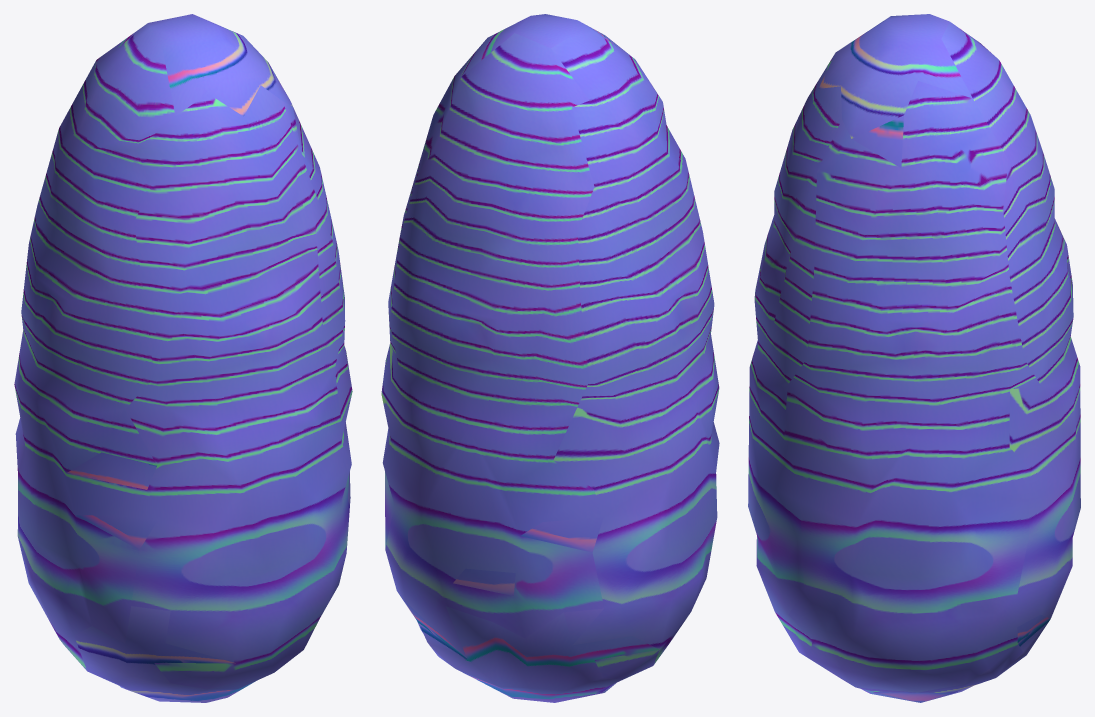
File: m_EggGreen_LOD1.fbx
3 renders of one model, left to right at view 1: azimuth 30°, elevation 25°; view 2: azimuth 150°, elevation 25°; view 3: azimuth 270°, elevation 25°, orthographic.
Visible parts, largest first — view 1: EggGreen_LOD1; view 2: EggGreen_LOD1; view 3: EggGreen_LOD1.
Boxes of the visible parts, x1,y1,x2,y2 form: EggGreen_LOD1: [14, 14, 352, 702]; EggGreen_LOD1: [381, 14, 719, 702]; EggGreen_LOD1: [748, 14, 1080, 702].
Bounding box in the file's own units: 3260 × 7147 × 3261.
